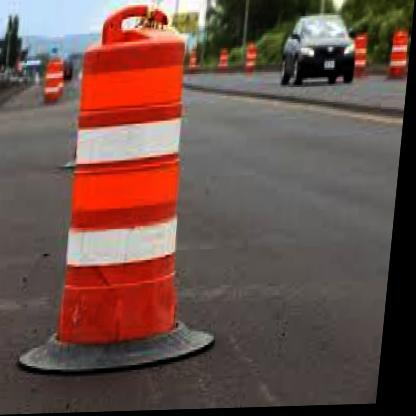obstacle: (64, 14, 198, 345)
